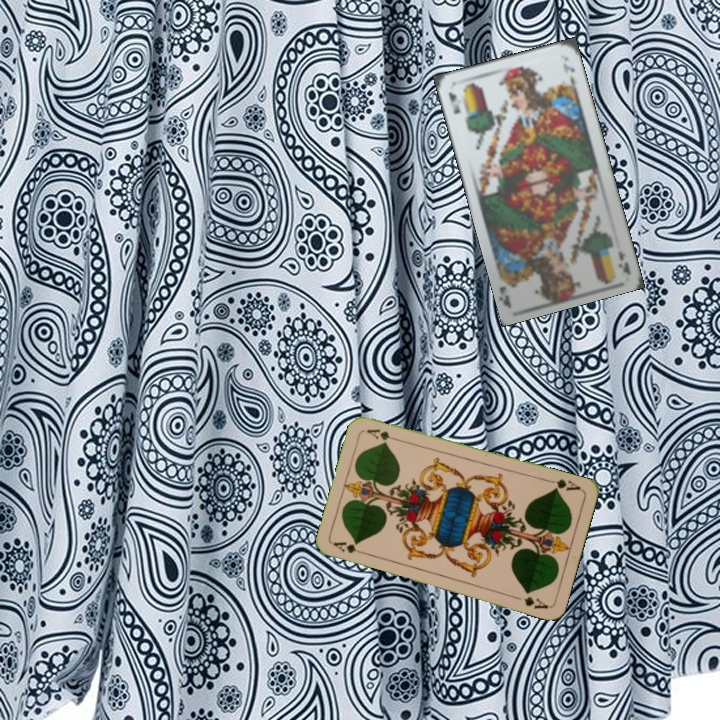EK: (614, 246, 634, 276), (444, 88, 463, 116)
GA: (329, 538, 369, 557), (543, 475, 583, 493)
